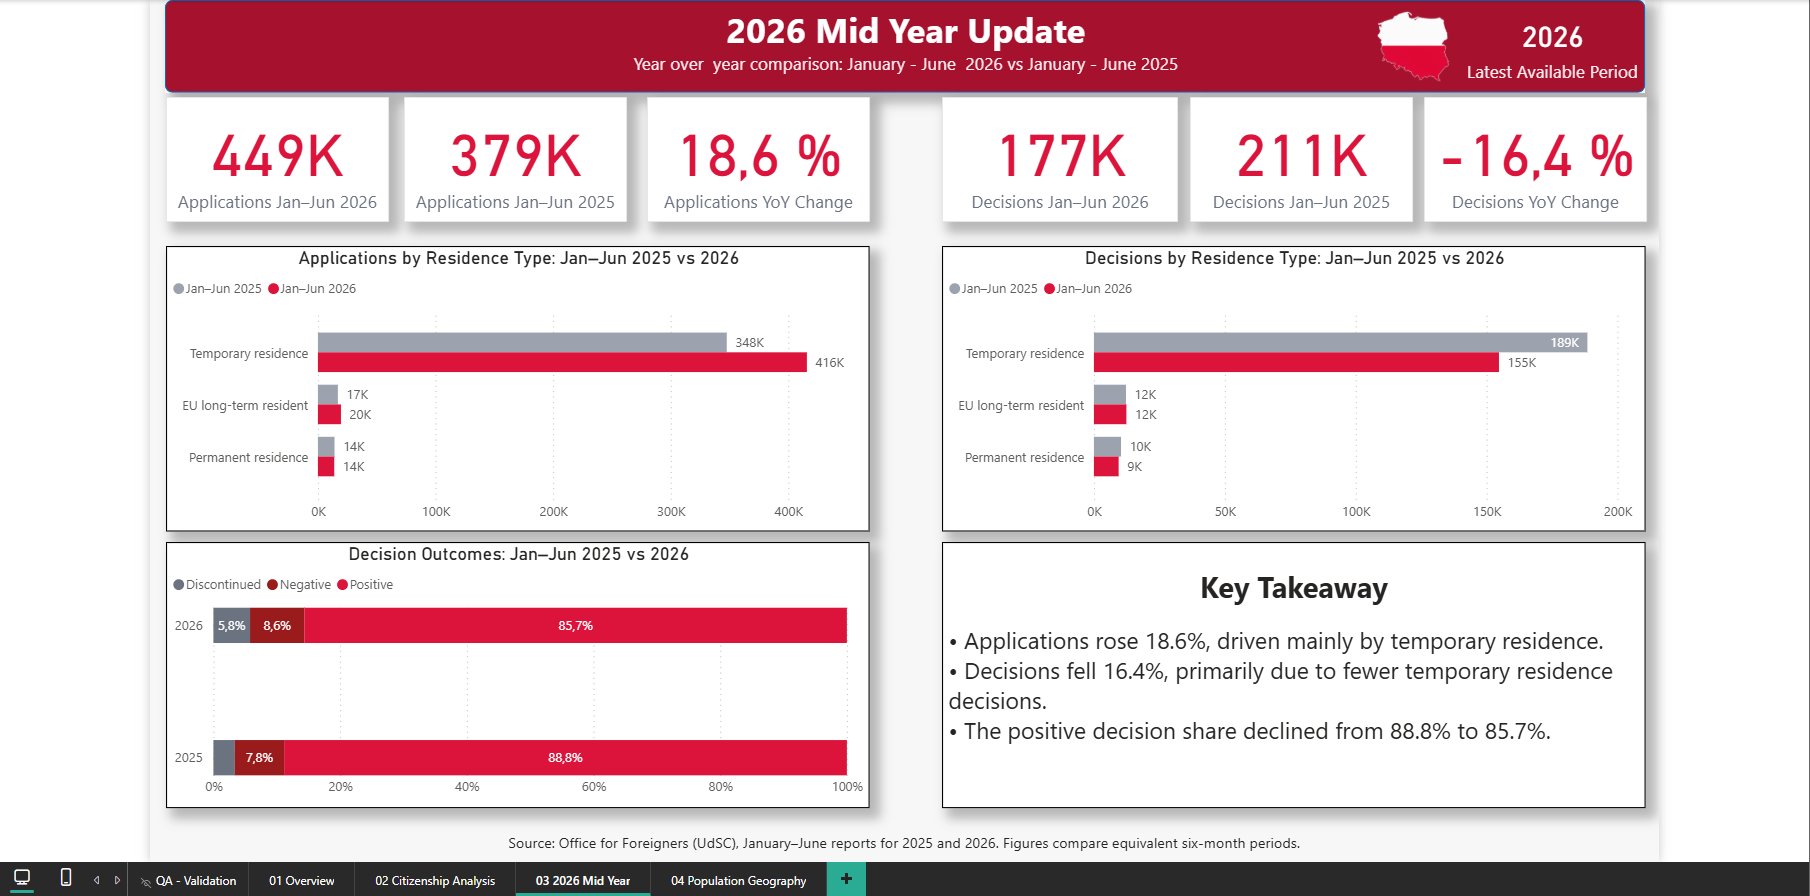

The dashboard page shown, as its layout file describes it:
{"tool":"powerbi","page":{"name":"03 2026 Mid Year","canvas":[1400,800],"ordinal":3},"visuals":[{"type":"shape","box":[14.3,0,1373.7,86],"z":0},{"type":"textbox","box":[14.8,0,1373.5,86.3],"z":1000},{"type":"card","fields":{"Values":["_Measures.Latest H1 Year"]},"box":[1214.5,1.2,173.8,85.2],"z":2000},{"type":"textbox","box":[0,768.1,1400,32.3],"z":3000},{"type":"card","fields":{"Values":["_Measures.Applications H1 2026"]},"box":[14.9,90.4,206.9,116.5],"z":4000},{"type":"card","fields":{"Values":["_Measures.Applications H1 2025"]},"box":[235.4,90.4,206.9,116.5],"z":5000},{"type":"card","fields":{"Values":["_Measures.Applications H1 YoY Change"]},"box":[460.9,90.4,206.9,116.5],"z":6000},{"type":"card","fields":{"Values":["_Measures.Decisions H1 2026"]},"box":[734.7,90.4,219.3,116.5],"z":7000},{"type":"image","box":[1100.2,1.2,143.5,85.2],"z":8000},{"type":"card","fields":{"Values":["_Measures.Decisions H1 2025"]},"box":[965.1,90.4,206.9,116.5],"z":9000},{"type":"card","fields":{"Values":["_Measures.Decisions H1 YoY Change"]},"box":[1181.9,90.4,206.9,116.5],"z":10000},{"type":"clusteredBarChart","title":"Applications by Residence Type: Jan–Jun 2025 vs 2026","fields":{"Category":["dim_residence_type.residence_type_name_en"],"Y":["_Measures.Applications H1 2025","_Measures.Applications H1 2026"]},"box":[14.9,228,652.9,265.1],"z":11000},{"type":"clusteredBarChart","title":"Decisions by Residence Type: Jan–Jun 2025 vs 2026","fields":{"Category":["dim_residence_type.residence_type_name_en"],"Y":["_Measures.Decisions H1 2025","_Measures.Decisions H1 2026"]},"box":[734.7,228,652.9,265.1],"z":12000},{"type":"hundredPercentStackedBarChart","title":"Decision Outcomes: Jan–Jun 2025 vs 2026","fields":{"Category":["dim_period_conformed.year"],"Y":["_Measures.Total Decisions H1"],"Series":["dim_decision_outcome.decision_outcome_name_en"]},"box":[14.9,503,652.9,246.5],"z":13000},{"type":"textbox","box":[735,503,653,247],"z":14000}]}

Visuals, with their boxes in screenshot pixels (x1, y1, x2, y2):
shape: [left=171, top=0, right=1634, bottom=92]
textbox: [left=171, top=0, right=1634, bottom=92]
card - _Measures.Latest H1 Year: [left=1449, top=1, right=1634, bottom=92]
textbox: [left=156, top=818, right=1646, bottom=852]
card - _Measures.Applications H1 2026: [left=171, top=96, right=392, bottom=220]
card - _Measures.Applications H1 2025: [left=406, top=96, right=627, bottom=220]
card - _Measures.Applications H1 YoY Change: [left=646, top=96, right=867, bottom=220]
card - _Measures.Decisions H1 2026: [left=938, top=96, right=1171, bottom=220]
image: [left=1327, top=1, right=1480, bottom=92]
card - _Measures.Decisions H1 2025: [left=1183, top=96, right=1404, bottom=220]
card - _Measures.Decisions H1 YoY Change: [left=1414, top=96, right=1634, bottom=220]
"Applications by Residence Type: Jan–Jun 2025 vs 2026" clusteredBarChart: [left=171, top=243, right=867, bottom=525]
"Decisions by Residence Type: Jan–Jun 2025 vs 2026" clusteredBarChart: [left=938, top=243, right=1633, bottom=525]
"Decision Outcomes: Jan–Jun 2025 vs 2026" hundredPercentStackedBarChart: [left=171, top=536, right=867, bottom=798]
textbox: [left=938, top=536, right=1634, bottom=799]
